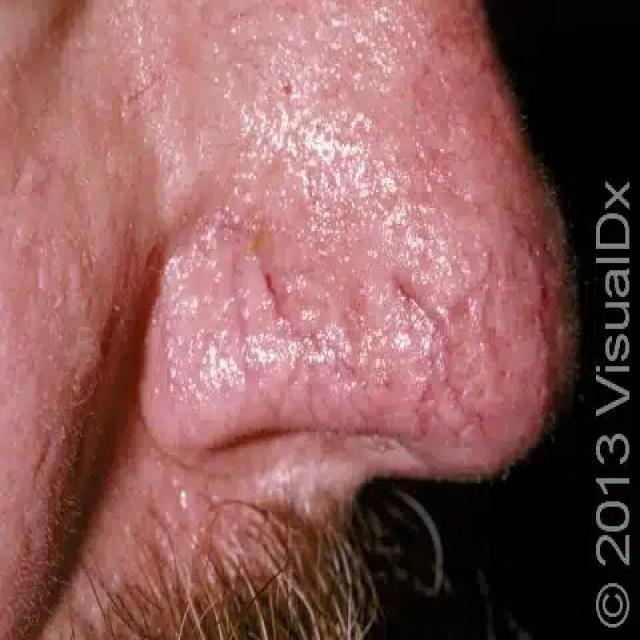Rosacea: (169, 0, 558, 429)
